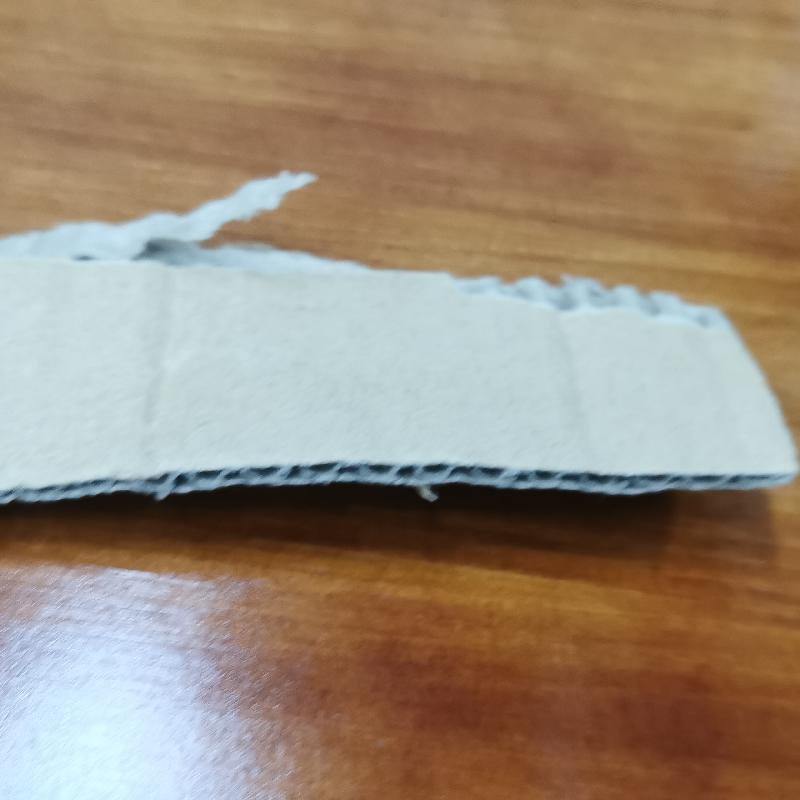boxes: (1, 168, 799, 511)
